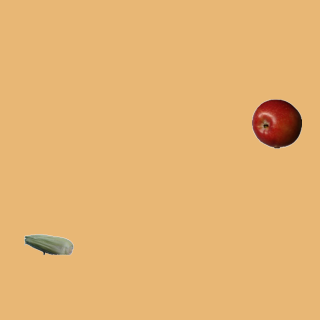Apple Braeburn: (251, 98, 301, 148)
Corn Husk: (23, 219, 73, 269)
